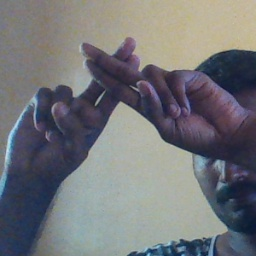F: (48, 31, 185, 149)
